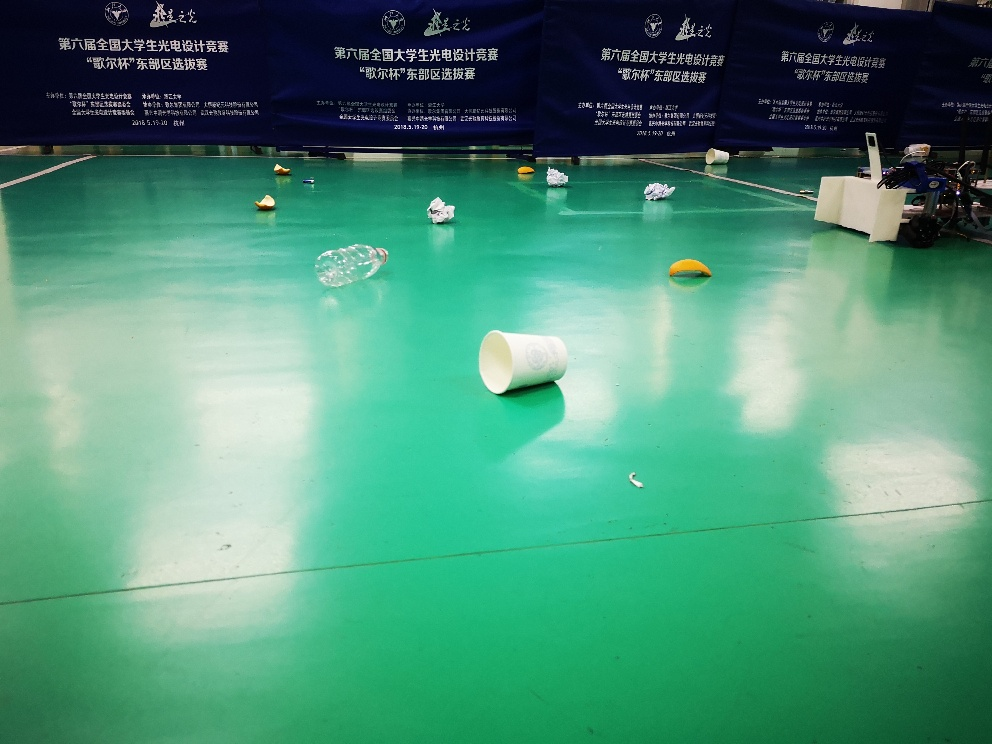battery: (791, 184, 820, 198), (295, 173, 320, 187)
bottle: (313, 242, 390, 289)
orangepeel: (665, 255, 714, 281), (253, 192, 280, 212), (270, 161, 294, 179), (515, 165, 537, 176)
papercup: (477, 328, 569, 397)
spitball: (642, 179, 677, 205), (425, 196, 456, 225), (704, 147, 733, 167), (545, 167, 571, 189)
